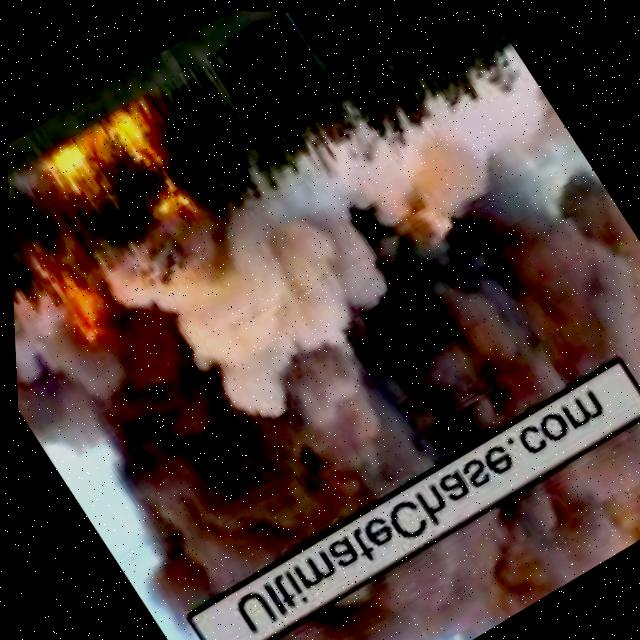Fire: (32, 87, 212, 266), (22, 243, 120, 352)
Smoke: (1, 30, 640, 640), (205, 342, 640, 640)
